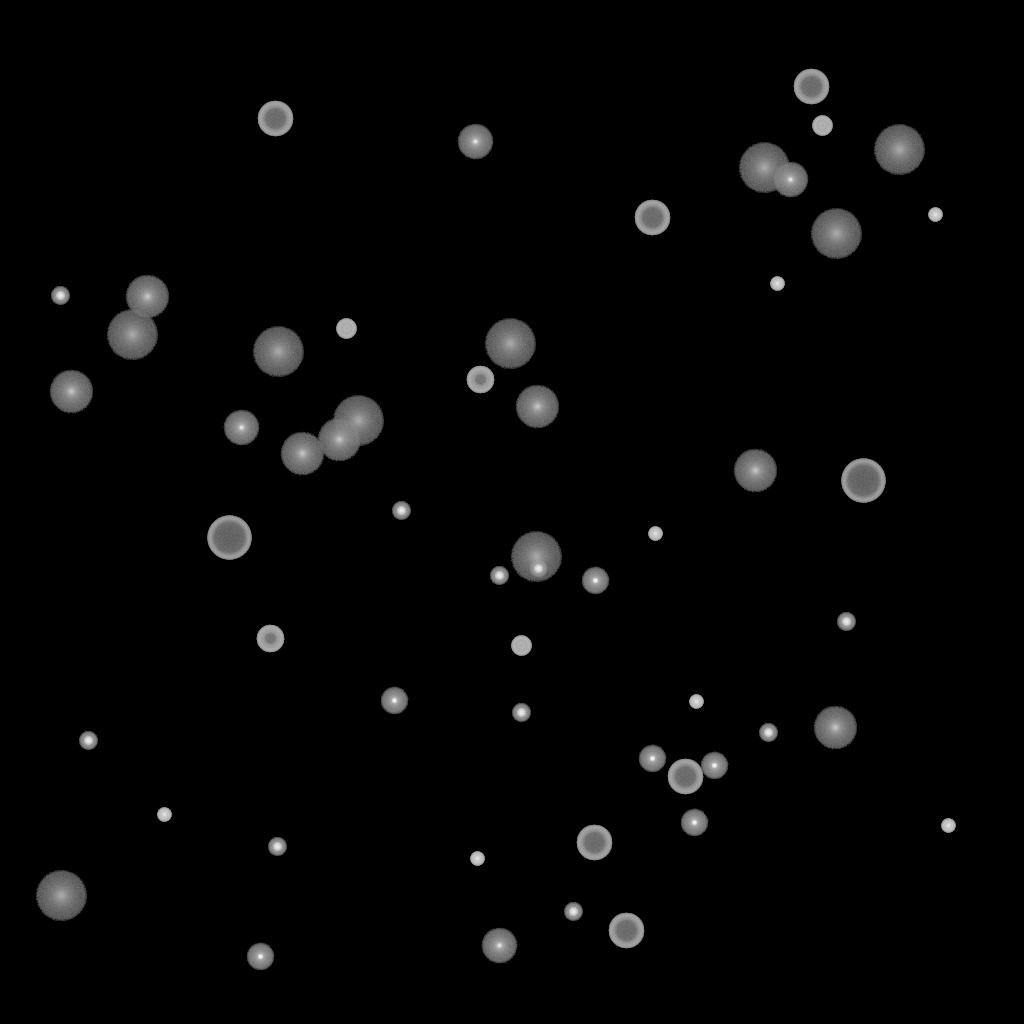depth:-10: (246, 943, 274, 971), (680, 809, 708, 837), (700, 752, 728, 780), (638, 745, 666, 773), (581, 567, 609, 595), (380, 687, 408, 715)
depth:-20: (392, 502, 410, 520), (268, 838, 286, 856), (837, 613, 855, 631), (490, 567, 508, 585), (529, 560, 547, 578), (79, 732, 97, 750), (51, 287, 69, 305), (564, 903, 582, 921), (512, 704, 530, 722), (759, 724, 777, 742)
depth:-30: (689, 695, 703, 709), (941, 819, 955, 833), (157, 808, 171, 822), (470, 852, 484, 866), (770, 277, 784, 291), (648, 527, 662, 541), (928, 208, 942, 222)
depth:-40: (336, 319, 356, 339), (511, 636, 531, 656), (812, 116, 832, 136)
depth:-50: (256, 625, 284, 653), (466, 366, 494, 394)
depth:-60: (793, 69, 829, 105), (667, 759, 703, 795), (576, 825, 612, 861), (257, 101, 293, 137), (634, 200, 670, 236), (608, 913, 644, 949)
depth:-70: (207, 516, 251, 560), (841, 459, 885, 503)
depth:0: (457, 124, 493, 160), (223, 410, 259, 446), (481, 928, 517, 964), (772, 162, 808, 198)
depth:10: (515, 385, 559, 429), (813, 706, 857, 750), (49, 370, 93, 414), (280, 432, 324, 476), (733, 449, 777, 493), (317, 418, 361, 462), (125, 275, 169, 319)
depth:20: (510, 532, 562, 582), (810, 209, 862, 259), (106, 310, 158, 360), (35, 871, 87, 921), (252, 327, 304, 377), (484, 319, 536, 369), (873, 125, 925, 175), (332, 396, 384, 446), (738, 143, 790, 193)
